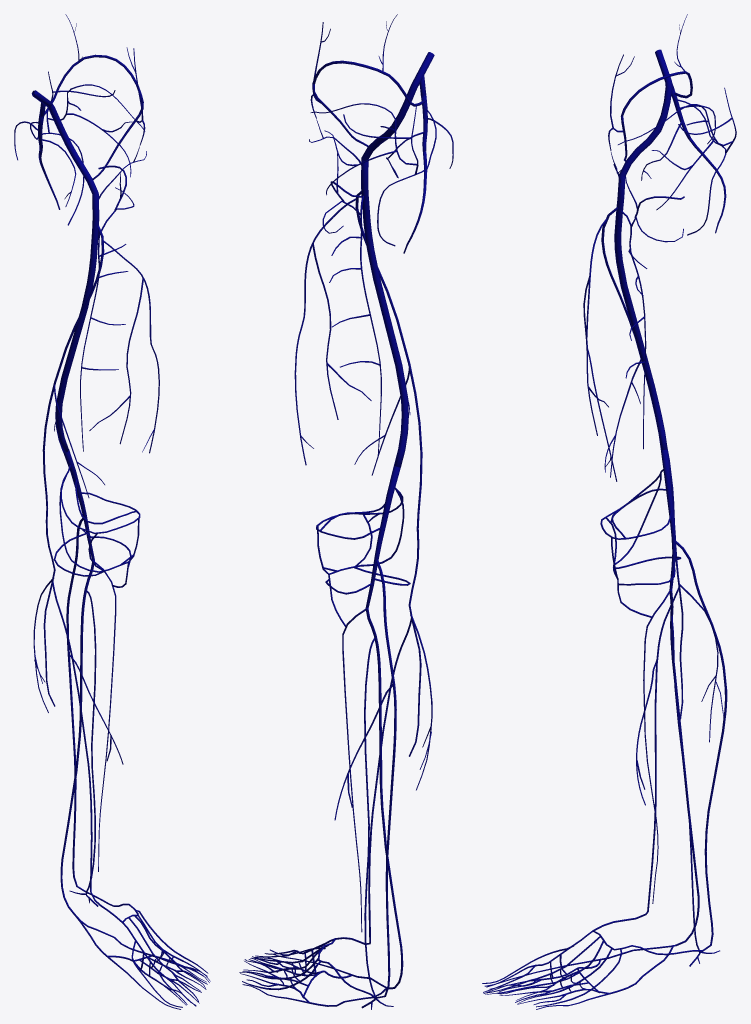
Rendered from Lower limb Veins L.fbx.
3 renders of one model, left to right at view 1: azimuth 30°, elevation 25°; view 2: azimuth 210°, elevation 25°; view 3: azimuth 270°, elevation 25°, orthographic. The views are drawn at different scales.
Visible parts, largest first — view 1: Great_saphenous_L, Femoral_L, Posterior_tibial_L, Small_saphenous_L, Superior_gluteal_L, External_iliac_L, Fibular_L, Superficial_digital_L, Superficial_metatarsal_L, Plantar_digital_L, Anterior_tibial_L, Popliteal_L (+2 smaller); view 2: Great_saphenous_L, Femoral_L, Small_saphenous_L, Superior_gluteal_L, Posterior_tibial_L, Fibular_L, Popliteal_L, Plantar_digital_L, External_iliac_L, Anterior_tibial_L, Superficial_metatarsal_L, Iliolumbar_L (+2 smaller); view 3: Great_saphenous_L, Femoral_L, Small_saphenous_L, Superior_gluteal_L, Posterior_tibial_L, Superficial_digital_L, Plantar_digital_L, Fibular_L, External_iliac_L, Superficial_metatarsal_L, Popliteal_L, Anterior_tibial_L.
Part boxes in pixels (box(x1,y1,x2,y2)): Great_saphenous_L: box(33, 225, 159, 888); Femoral_L: box(55, 193, 99, 452); Posterior_tibial_L: box(60, 559, 94, 913); Small_saphenous_L: box(66, 518, 85, 891); Superior_gluteal_L: box(30, 71, 145, 225); External_iliac_L: box(47, 104, 98, 194); Fibular_L: box(86, 590, 98, 906); Superficial_digital_L: box(131, 940, 210, 1007); Superficial_metatarsal_L: box(122, 910, 184, 972); Plantar_digital_L: box(109, 954, 209, 1009); Anterior_tibial_L: box(94, 561, 116, 871); Popliteal_L: box(63, 449, 94, 560); Great_saphenous_L: box(294, 191, 432, 941); Femoral_L: box(361, 158, 408, 467); Small_saphenous_L: box(375, 560, 396, 998); Superior_gluteal_L: box(310, 103, 436, 246); Posterior_tibial_L: box(365, 607, 403, 989); Fibular_L: box(361, 637, 375, 1009); Popliteal_L: box(366, 466, 400, 607); Plantar_digital_L: box(240, 954, 349, 1003); External_iliac_L: box(361, 84, 417, 160); Anterior_tibial_L: box(342, 608, 365, 932); Superficial_metatarsal_L: box(267, 938, 334, 990); Iliolumbar_L: box(312, 14, 425, 106); Great_saphenous_L: box(583, 207, 723, 911); Femoral_L: box(614, 175, 667, 450); Small_saphenous_L: box(675, 541, 727, 951); Superior_gluteal_L: box(618, 87, 736, 235); Posterior_tibial_L: box(669, 589, 699, 946); Superficial_digital_L: box(482, 946, 573, 1007); Plantar_digital_L: box(483, 959, 609, 1009); Fibular_L: box(671, 616, 700, 966); External_iliac_L: box(619, 81, 672, 176); Superficial_metatarsal_L: box(535, 930, 622, 999); Popliteal_L: box(661, 449, 676, 589); Anterior_tibial_L: box(643, 591, 670, 903).
Bounding box in the file's own units: 15.73 × 120 × 28.62.
